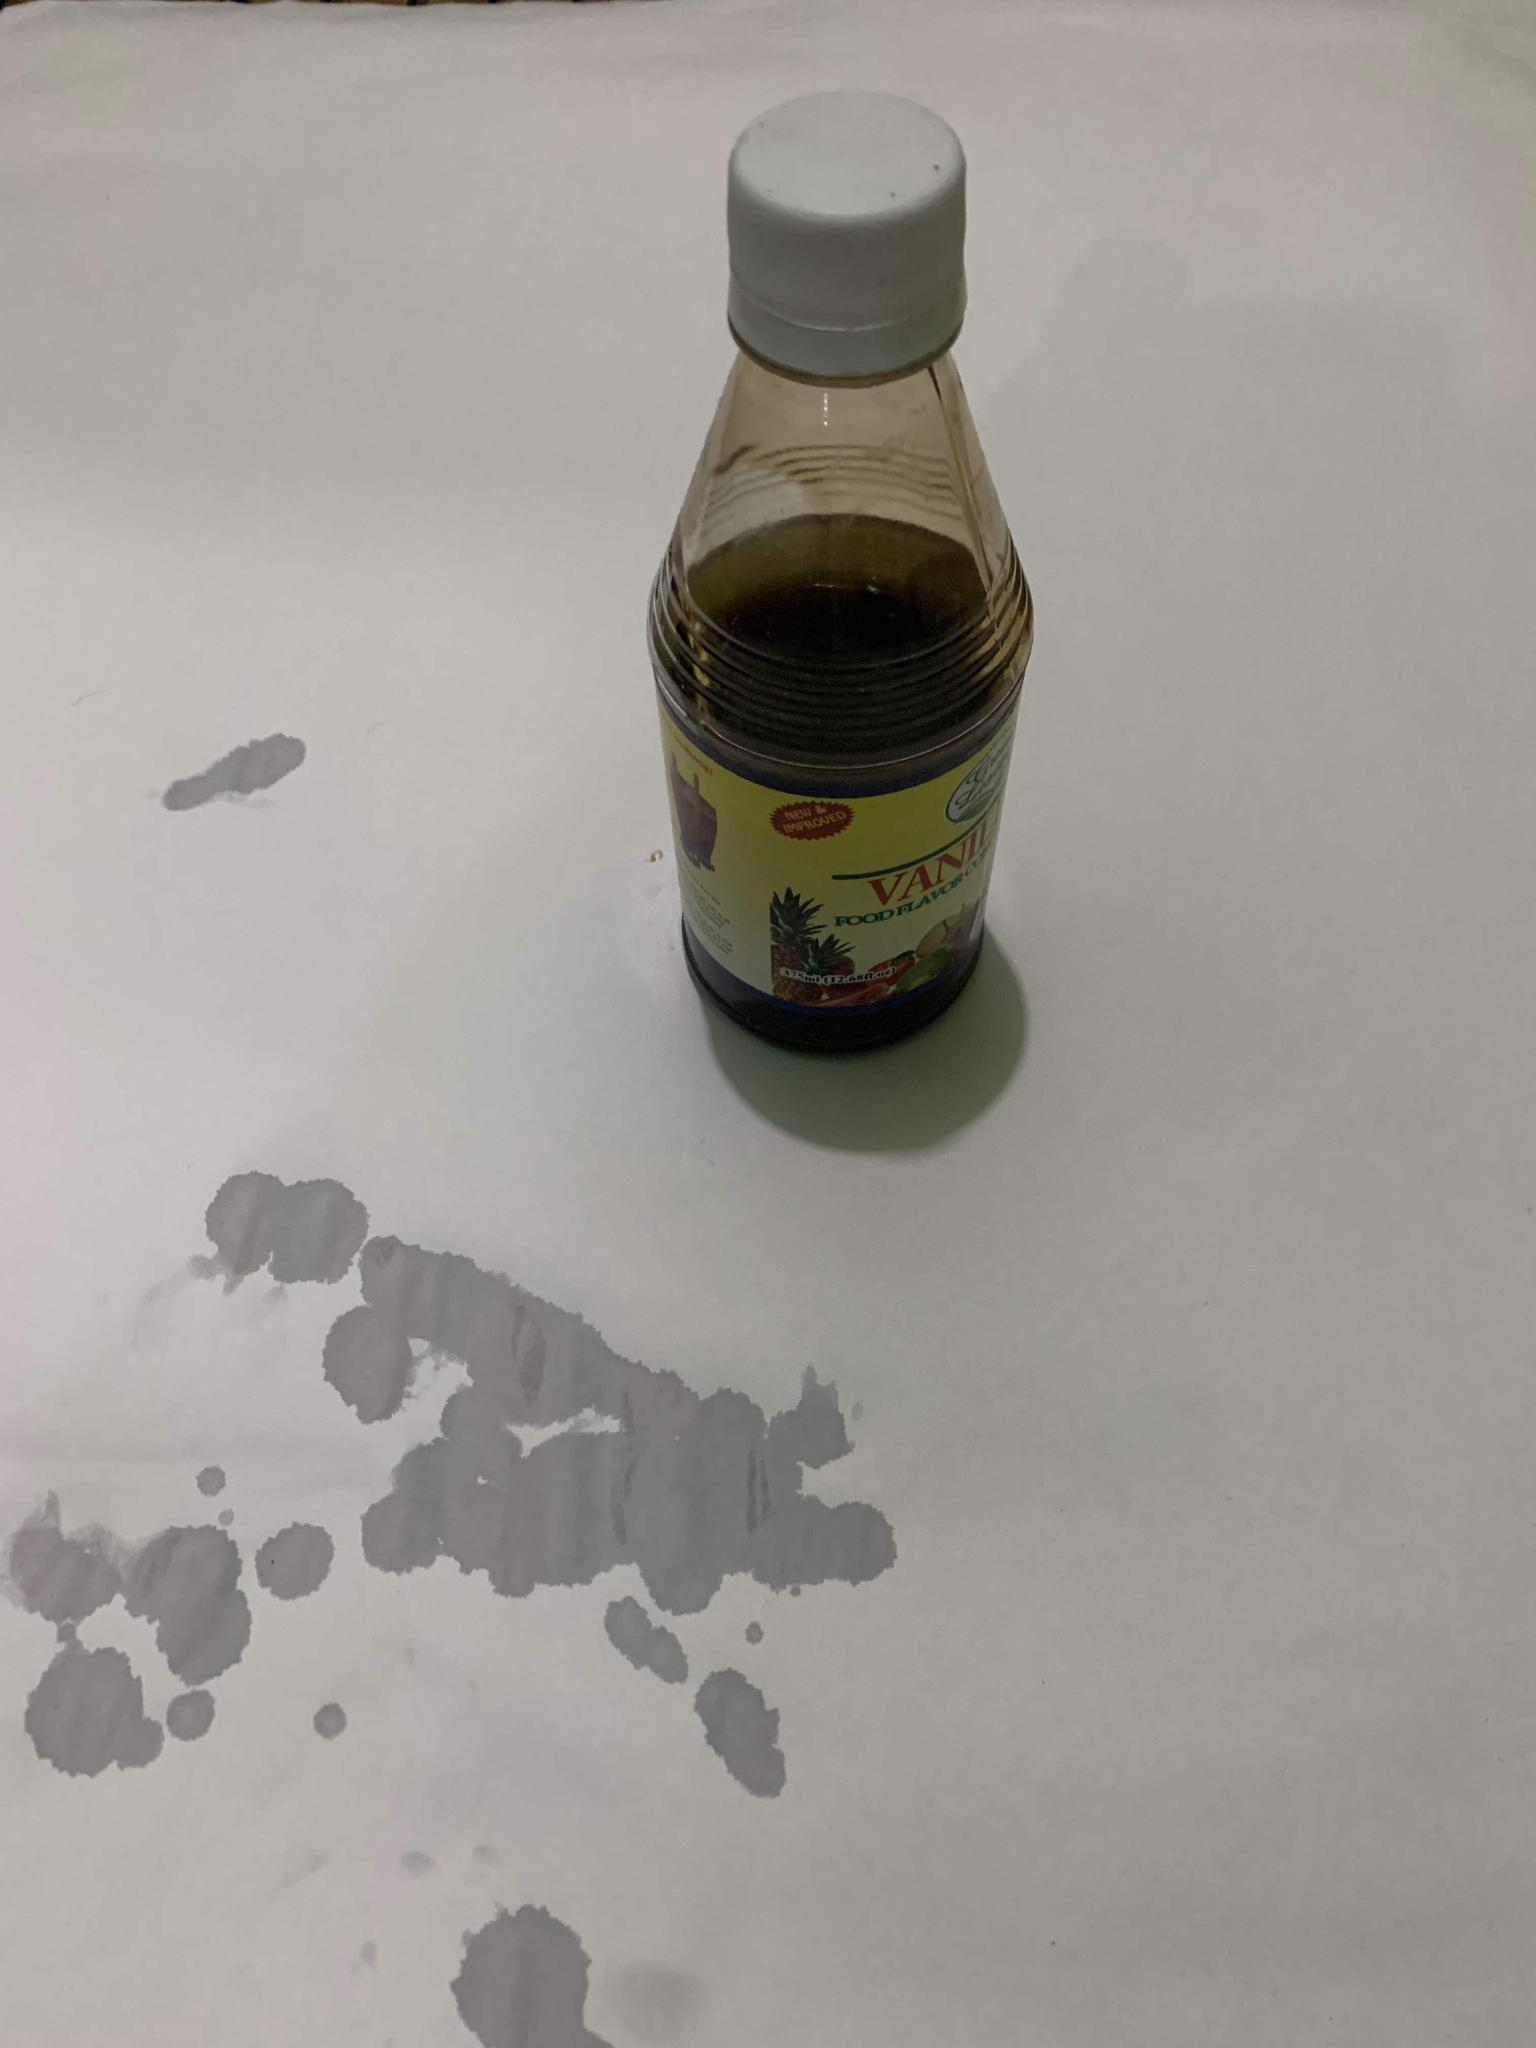bottle: (631, 82, 1057, 1080)
